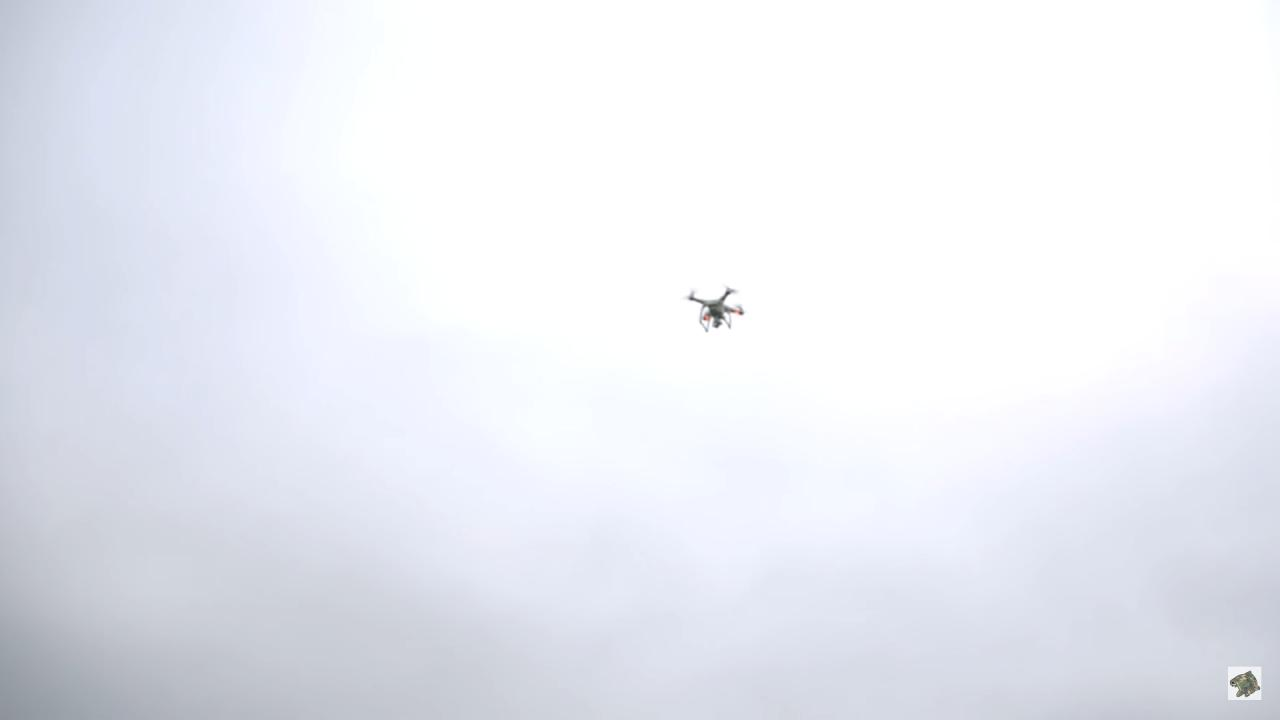Drone: (679, 277, 756, 334)
